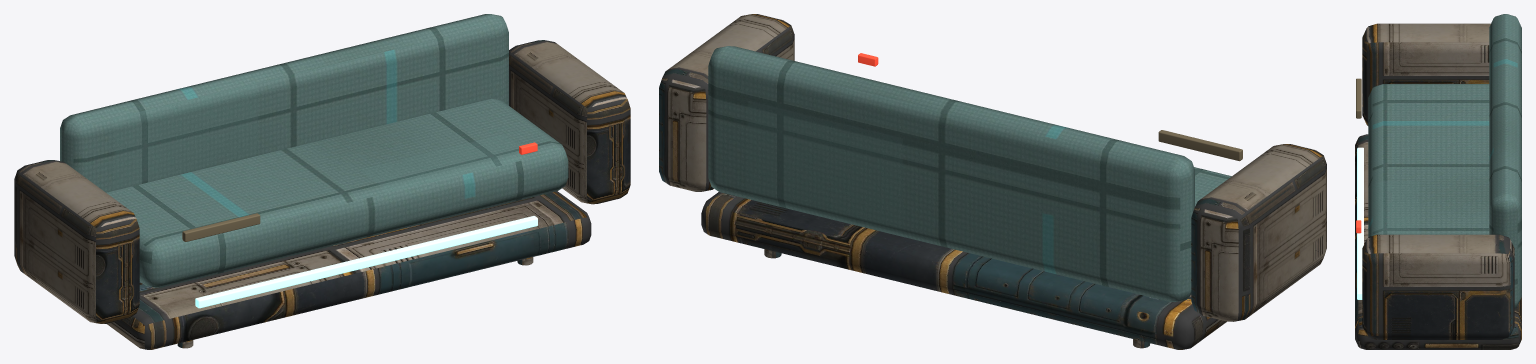
File: hp_room_lounge_sofa_residential.glb
3 views of the same model, side by side, from view 1: azimuth 30°, elevation 25°; view 2: azimuth 150°, elevation 25°; view 3: azimuth 270°, elevation 25° (orthographic). The views are drawn at different scales.
Visible parts, largest first — view 1: back_rest_broad_low, left_arm_block, contact_shadow_plinth, under_cyan_service_strip, warm_residential_nameplate_blank; view 2: back_rest_broad_low, left_arm_block, contact_shadow_plinth, warm_residential_nameplate_blank; view 3: back_rest_broad_low, left_arm_block, contact_shadow_plinth, under_cyan_service_strip, warm_residential_nameplate_blank.
Boxes of the visible parts, bbox=[...] form: back_rest_broad_low: bbox=[60, 14, 568, 287]; left_arm_block: bbox=[14, 40, 630, 323]; contact_shadow_plinth: bbox=[107, 191, 591, 349]; under_cyan_service_strip: bbox=[195, 216, 537, 308]; warm_residential_nameplate_blank: bbox=[182, 213, 260, 241]; back_rest_broad_low: bbox=[708, 46, 1231, 301]; left_arm_block: bbox=[659, 14, 1326, 321]; contact_shadow_plinth: bbox=[701, 192, 1226, 349]; warm_residential_nameplate_blank: bbox=[1158, 130, 1242, 161]; back_rest_broad_low: bbox=[1368, 14, 1521, 308]; left_arm_block: bbox=[1362, 23, 1514, 339]; contact_shadow_plinth: bbox=[1355, 134, 1521, 349]; under_cyan_service_strip: bbox=[1357, 147, 1363, 299]; warm_residential_nameplate_blank: bbox=[1356, 78, 1361, 118].
Bounding box in the file's own units: 2.73 × 0.8951 × 0.8232.
6 materials, 3 textured.
